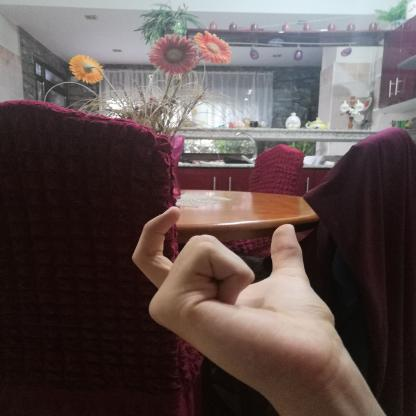NOON: (115, 197, 359, 404)
